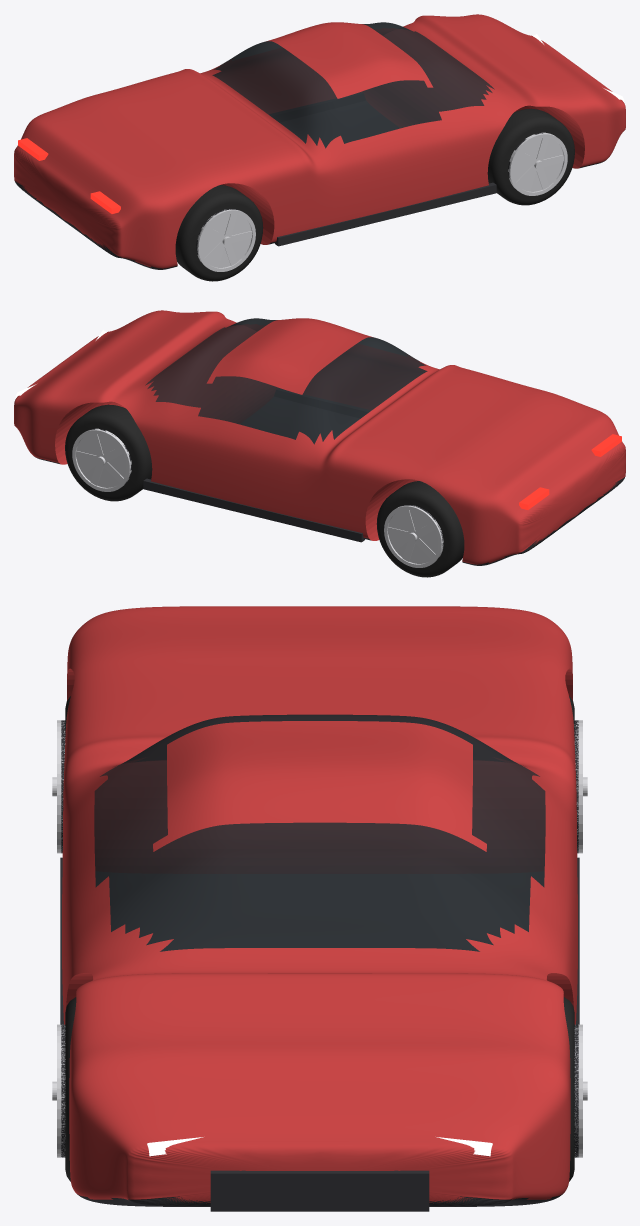
3 views of the same model, one above another, from view 1: azimuth 30°, elevation 25°; view 2: azimuth 150°, elevation 25°; view 3: azimuth 270°, elevation 25° (orthographic). The views are drawn at different scales.
Parts seen in each view (by area): view 1: Body, Cylinder.012, Cylinder.004, Cube.030, Cylinder.014, Cylinder.006, Cube.029; view 2: Body, Cylinder.008, Cylinder, Cube.029, Cylinder.010, Cylinder.002, Cube.030; view 3: Body, Cube.028, Cylinder.008, Cylinder.012, Cylinder.014, Cylinder.010.
Boxes of the visible parts, left/top/right/bottom form: Body: left=14, top=14, right=625, bottom=269; Cylinder.012: left=487, top=108, right=574, bottom=205; Cylinder.004: left=175, top=185, right=263, bottom=281; Cube.030: left=275, top=182, right=496, bottom=246; Cylinder.014: left=508, top=132, right=567, bottom=195; Cylinder.006: left=197, top=209, right=255, bottom=271; Cube.029: left=269, top=93, right=365, bottom=121; Body: left=14, top=310, right=625, bottom=565; Cylinder.008: left=65, top=404, right=152, bottom=501; Cylinder: left=376, top=481, right=464, bottom=577; Cube.029: left=143, top=478, right=364, bottom=542; Cylinder.010: left=72, top=428, right=131, bottom=491; Cylinder.002: left=384, top=505, right=443, bottom=567; Cube.030: left=274, top=389, right=370, bottom=417; Body: left=62, top=606, right=577, bottom=1206; Cube.028: left=210, top=1170, right=429, bottom=1211; Cylinder.008: left=563, top=997, right=574, bottom=1181; Cylinder.012: left=65, top=997, right=76, bottom=1181; Cylinder.014: left=57, top=1024, right=65, bottom=1157; Cylinder.010: left=574, top=1024, right=582, bottom=1157.
Bounding box in the file's own units: 4.57 × 1.24 × 2.03.
